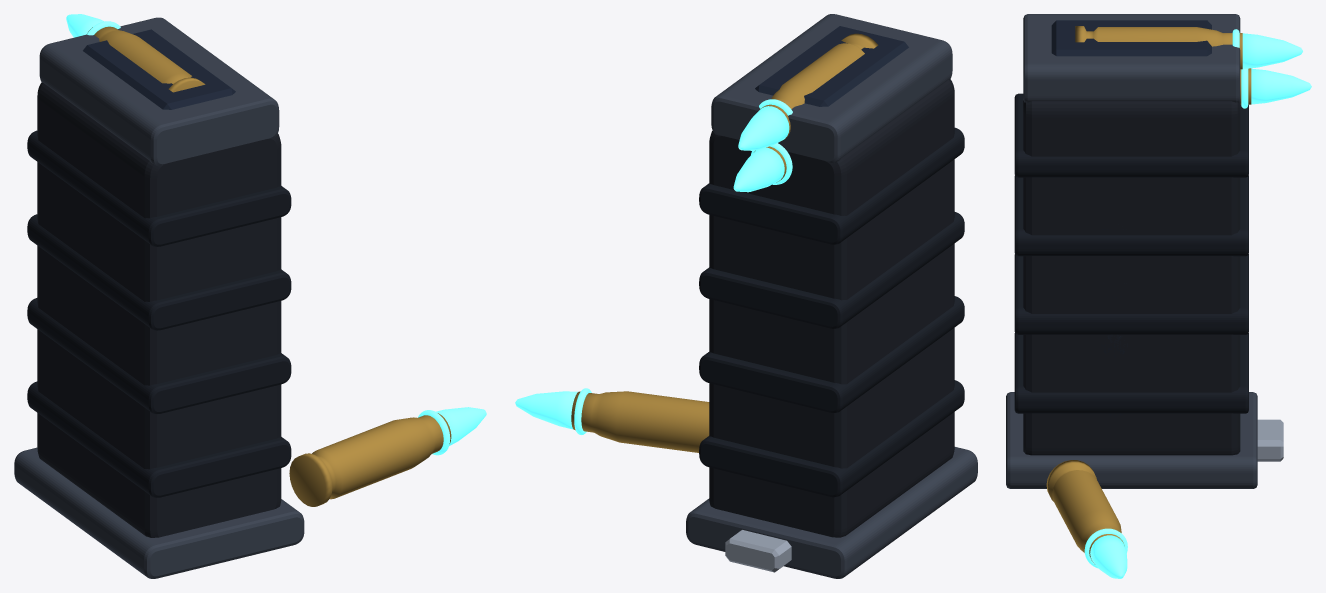
The model's file is ammo_cryo.glb.
3 renders of one model, left to right at view 1: azimuth 30°, elevation 25°; view 2: azimuth 150°, elevation 25°; view 3: azimuth 270°, elevation 25°, orthographic. The views are drawn at different scales.
Visible parts, largest first — view 1: ammo_cryo_mag, ammo_cryo_lips, ammo_cryo_base, ammo_cryo_loose_case, ammo_cryo_rib1, ammo_cryo_rib0, ammo_cryo_rib2, ammo_cryo_rib3, ammo_cryo_lip_cut, ammo_cryo_top_case, ammo_cryo_loose_tip; view 2: ammo_cryo_mag, ammo_cryo_lips, ammo_cryo_base, ammo_cryo_rib0, ammo_cryo_rib2, ammo_cryo_rib1, ammo_cryo_rib3, ammo_cryo_loose_case, ammo_cryo_lip_cut, ammo_cryo_top_case, ammo_cryo_base_tab, ammo_cryo_top_tip (+2 smaller); view 3: ammo_cryo_mag, ammo_cryo_lips, ammo_cryo_base, ammo_cryo_rib0, ammo_cryo_rib3, ammo_cryo_rib2, ammo_cryo_rib1, ammo_cryo_lip_cut, ammo_cryo_loose_case, ammo_cryo_top_case, ammo_cryo_top_tip, ammo_cryo_second_tip (+3 smaller).
Part boxes in pixels (x1,y1,x2,y2): ammo_cryo_mag: (37, 82, 281, 537); ammo_cryo_lips: (39, 17, 279, 165); ammo_cryo_base: (14, 447, 304, 578); ammo_cryo_loose_case: (289, 413, 451, 506); ammo_cryo_rib1: (27, 298, 291, 414); ammo_cryo_rib0: (27, 381, 291, 497); ammo_cryo_rib2: (27, 214, 291, 330); ammo_cryo_rib3: (27, 130, 291, 246); ammo_cryo_lip_cut: (83, 29, 235, 109); ammo_cryo_top_case: (87, 26, 205, 92); ammo_cryo_loose_tip: (436, 407, 486, 445); ammo_cryo_mag: (709, 79, 954, 537); ammo_cryo_lips: (711, 14, 952, 163); ammo_cryo_base: (686, 447, 977, 578); ammo_cryo_rib0: (699, 380, 964, 497); ammo_cryo_rib2: (699, 212, 964, 328); ammo_cryo_rib1: (699, 296, 964, 412); ammo_cryo_rib3: (699, 127, 964, 244); ammo_cryo_loose_case: (571, 391, 709, 452); ammo_cryo_lip_cut: (755, 26, 908, 106); ammo_cryo_top_case: (759, 33, 878, 141); ammo_cryo_base_tab: (725, 530, 791, 572); ammo_cryo_top_tip: (738, 106, 789, 150); ammo_cryo_mag: (1023, 100, 1240, 455); ammo_cryo_lips: (1023, 14, 1240, 102); ammo_cryo_base: (1006, 392, 1257, 488); ammo_cryo_rib0: (1014, 333, 1248, 413); ammo_cryo_rib3: (1014, 93, 1248, 177); ammo_cryo_rib2: (1014, 175, 1248, 256); ammo_cryo_rib1: (1014, 254, 1248, 334); ammo_cryo_lip_cut: (1051, 20, 1211, 56); ammo_cryo_loose_case: (1046, 460, 1124, 562); ammo_cryo_top_case: (1075, 26, 1242, 69); ammo_cryo_top_tip: (1242, 33, 1302, 68); ammo_cryo_second_tip: (1251, 68, 1311, 104).
Size of the model in its own units: 0.1002 by 0.1088 by 0.0705.
